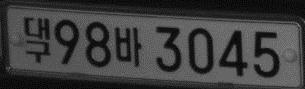0: (187, 27, 214, 74)
3: (155, 26, 182, 72)
4: (218, 29, 247, 76)
5: (253, 30, 280, 77)
8: (84, 21, 112, 68)
9: (53, 19, 80, 64)
대구_V: (23, 16, 51, 63)
바: (114, 26, 142, 66)
